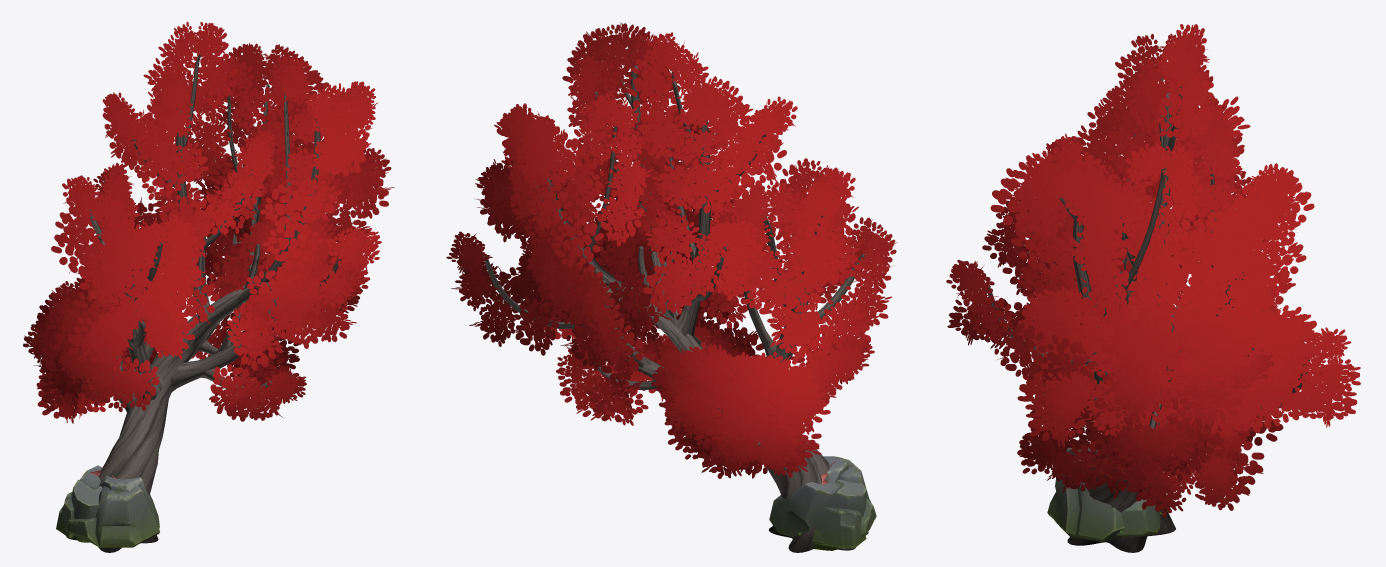
File: nature.af214799.glb
The picture shows the model from 3 angles, left to right: view 1: azimuth 30°, elevation 25°; view 2: azimuth 150°, elevation 25°; view 3: azimuth 270°, elevation 25°; orthographic projection. The views are drawn at different scales.
Parts seen in each view (by area): view 1: TwistedTree_1, Rock_Medium_1, Rock_Medium_2; view 2: TwistedTree_1, Rock_Medium_2, Rock_Medium_1; view 3: TwistedTree_1, Rock_Medium_1, Rock_Medium_2.
Part boxes in pixels (bbox=[...]): TwistedTree_1: bbox=[23, 21, 394, 552]; Rock_Medium_1: bbox=[65, 476, 159, 547]; Rock_Medium_2: bbox=[56, 465, 102, 542]; TwistedTree_1: bbox=[446, 22, 897, 552]; Rock_Medium_2: bbox=[769, 479, 868, 548]; Rock_Medium_1: bbox=[812, 456, 876, 550]; TwistedTree_1: bbox=[946, 24, 1360, 552]; Rock_Medium_1: bbox=[1047, 459, 1124, 541]; Rock_Medium_2: bbox=[1116, 499, 1160, 536].
Bounding box in the file's own units: 13.52 × 16.8 × 11.55.
8 materials, 8 textured.
